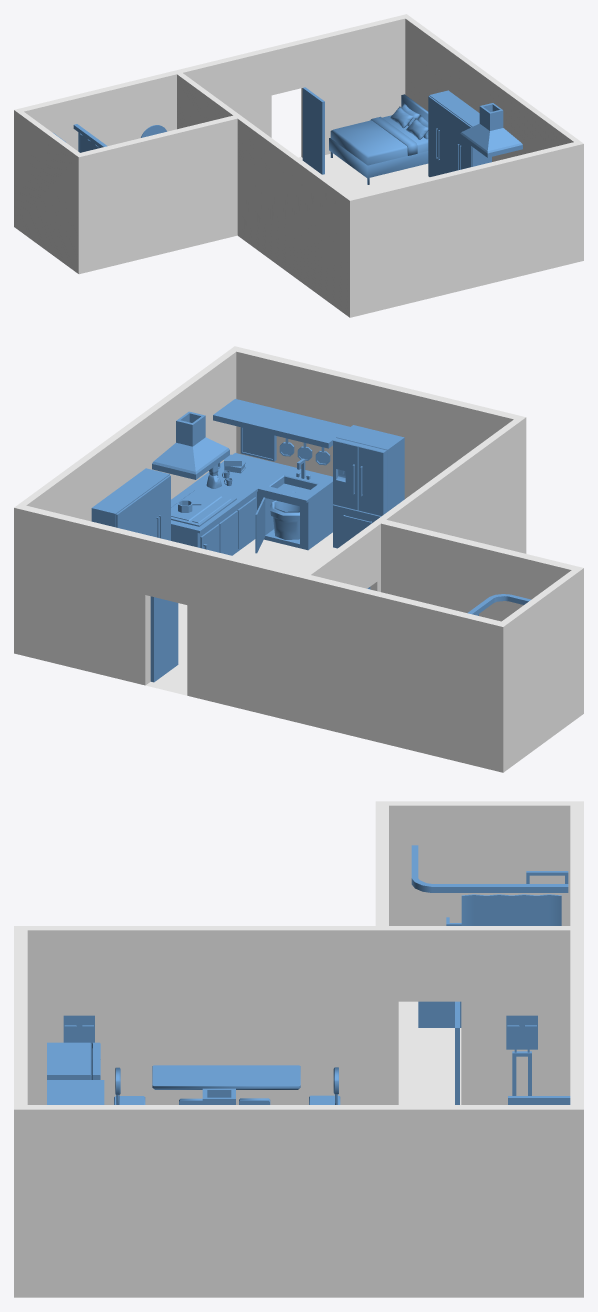
File: room3.glb
3 views of the same model, one above another, from view 1: azimuth 30°, elevation 25°; view 2: azimuth 150°, elevation 25°; view 3: azimuth 270°, elevation 25° (orthographic). The views are drawn at different scales.
Visible parts, largest first — view 1: ROOM FINISHED 3; view 2: ROOM FINISHED 3; view 3: ROOM FINISHED 3.
Part boxes in pixels (left/top/right/bottom): ROOM FINISHED 3: left=14, top=14, right=583, bottom=317; ROOM FINISHED 3: left=14, top=346, right=583, bottom=772; ROOM FINISHED 3: left=14, top=801, right=583, bottom=1297.
Bounding box in the file's own units: 8.77 × 2.57 × 6.86.
